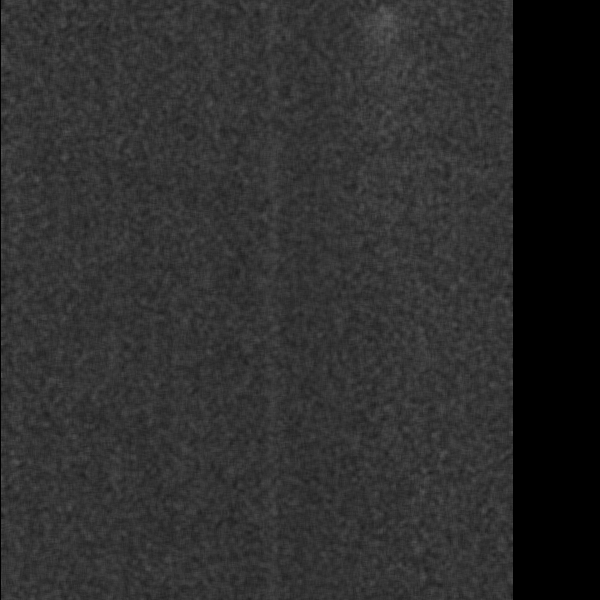spark: (22, 65, 91, 113)
